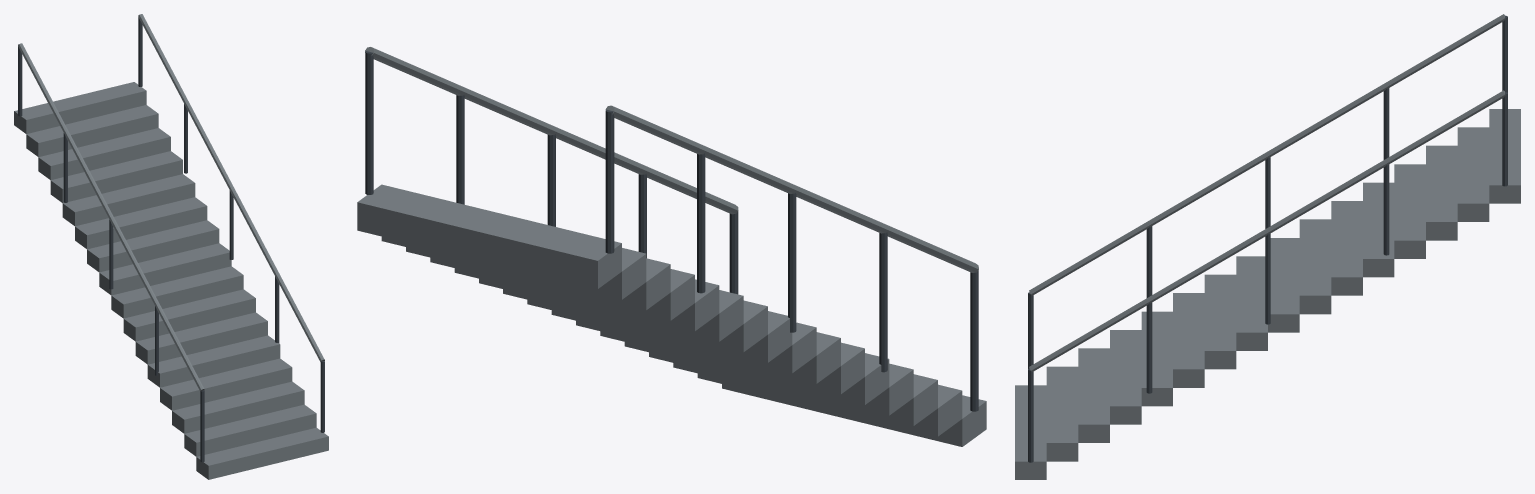
File: StairFlightTall.fbx
The picture shows the model from 3 angles, left to right: view 1: azimuth 30°, elevation 25°; view 2: azimuth 150°, elevation 25°; view 3: azimuth 270°, elevation 25°; orthographic projection. The views are drawn at different scales.
Visible parts, largest first — view 1: StairFlightTall; view 2: StairFlightTall; view 3: StairFlightTall.
Part boxes in pixels (bbox=[...]): StairFlightTall: bbox=[14, 14, 328, 479]; StairFlightTall: bbox=[357, 47, 986, 446]; StairFlightTall: bbox=[1015, 14, 1520, 479].
Bounding box in the file's own units: 166 × 381 × 448.
Materials: 1 (1 with a texture image).
